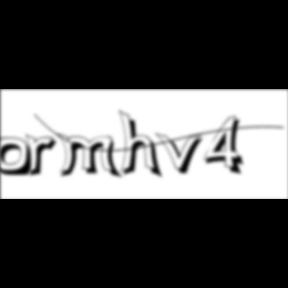4: (204, 115, 250, 179)
h: (119, 108, 166, 182)
m: (57, 132, 125, 181)
o: (1, 137, 36, 179)
r: (26, 134, 64, 180)
v: (156, 131, 210, 177)
